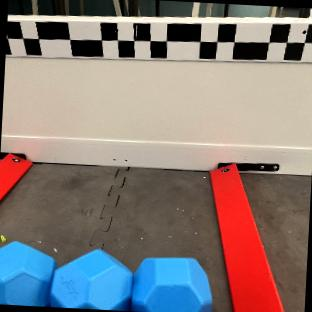V5_BLUE: (0, 242, 211, 312)
